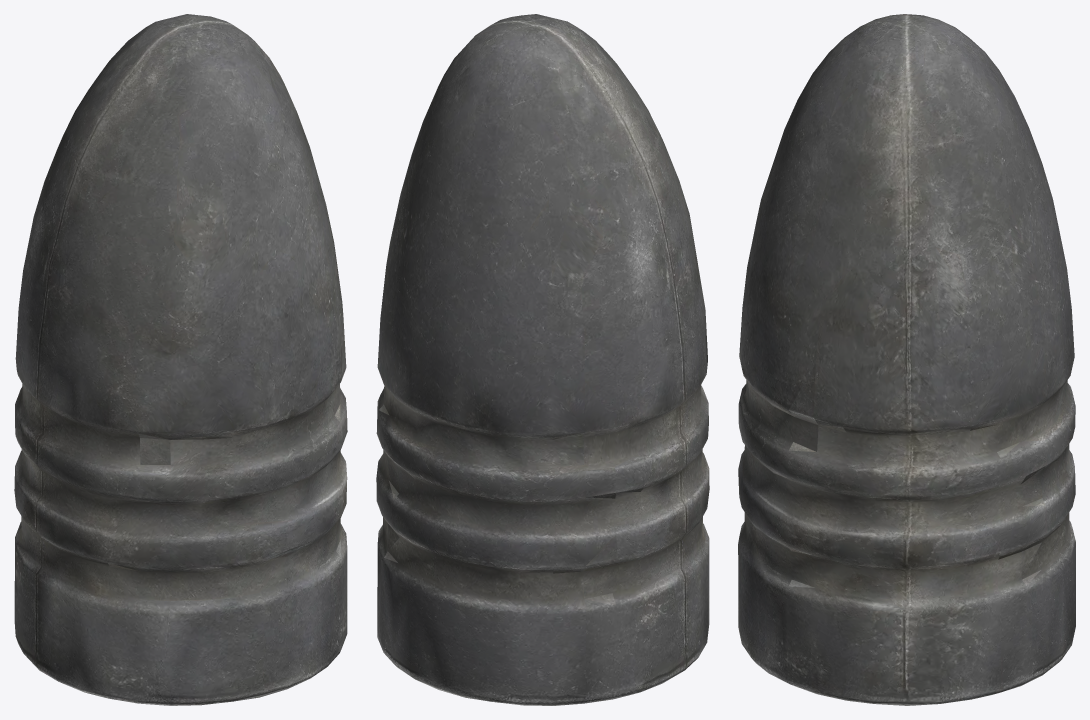
The model's file is 76d56227-19ad-46cf-b9e8-b84f93bef133.glb.
3 renders of one model, left to right at view 1: azimuth 30°, elevation 25°; view 2: azimuth 150°, elevation 25°; view 3: azimuth 270°, elevation 25°, orthographic.
Parts seen in each view (by area): view 1: Mesh_0.001; view 2: Mesh_0.001; view 3: Mesh_0.001.
Boxes of the visible parts, x1=… form: Mesh_0.001: x1=14, y1=14, x2=347, y2=705; Mesh_0.001: x1=376, y1=14, x2=709, y2=705; Mesh_0.001: x1=738, y1=14, x2=1075, y2=705.
Bounding box in the file's own units: 0.00985 × 0.02 × 0.00985.
Materials: 1 (1 with a texture image).
